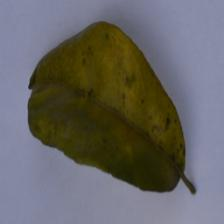greening: (45, 10, 178, 148)
